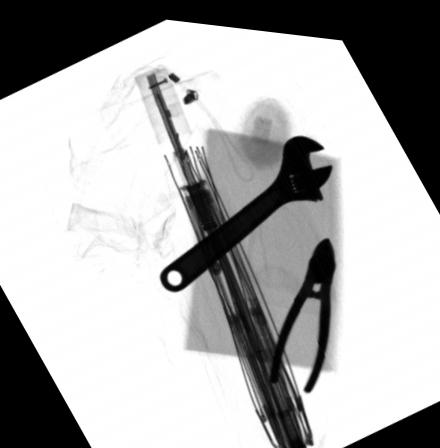Pliers: (267, 229, 336, 386)
Wrench: (155, 128, 333, 290)
